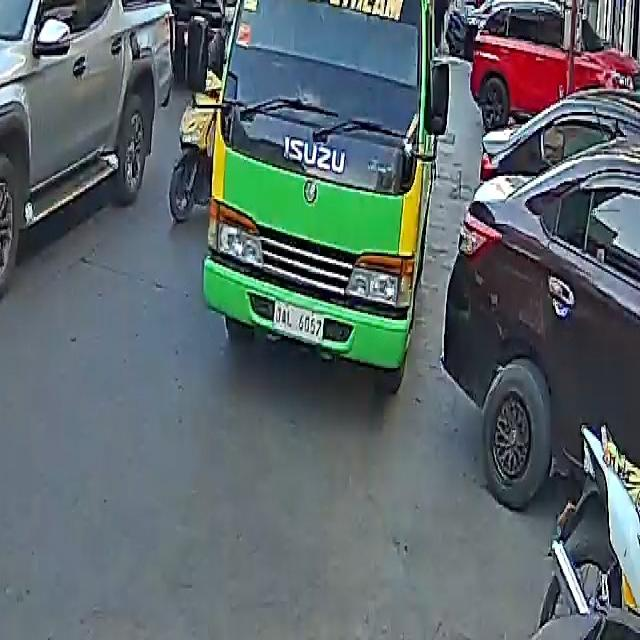car: (443, 106, 640, 513), (0, 0, 174, 300), (468, 0, 639, 133), (174, 0, 284, 18)
